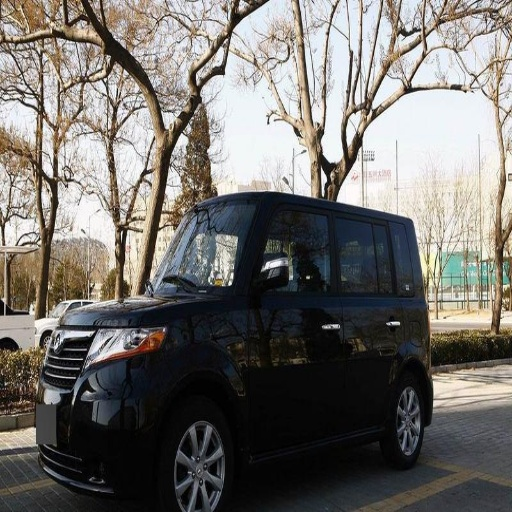front_left_door: (251, 210, 345, 451)
trunk: (404, 318, 441, 367)
